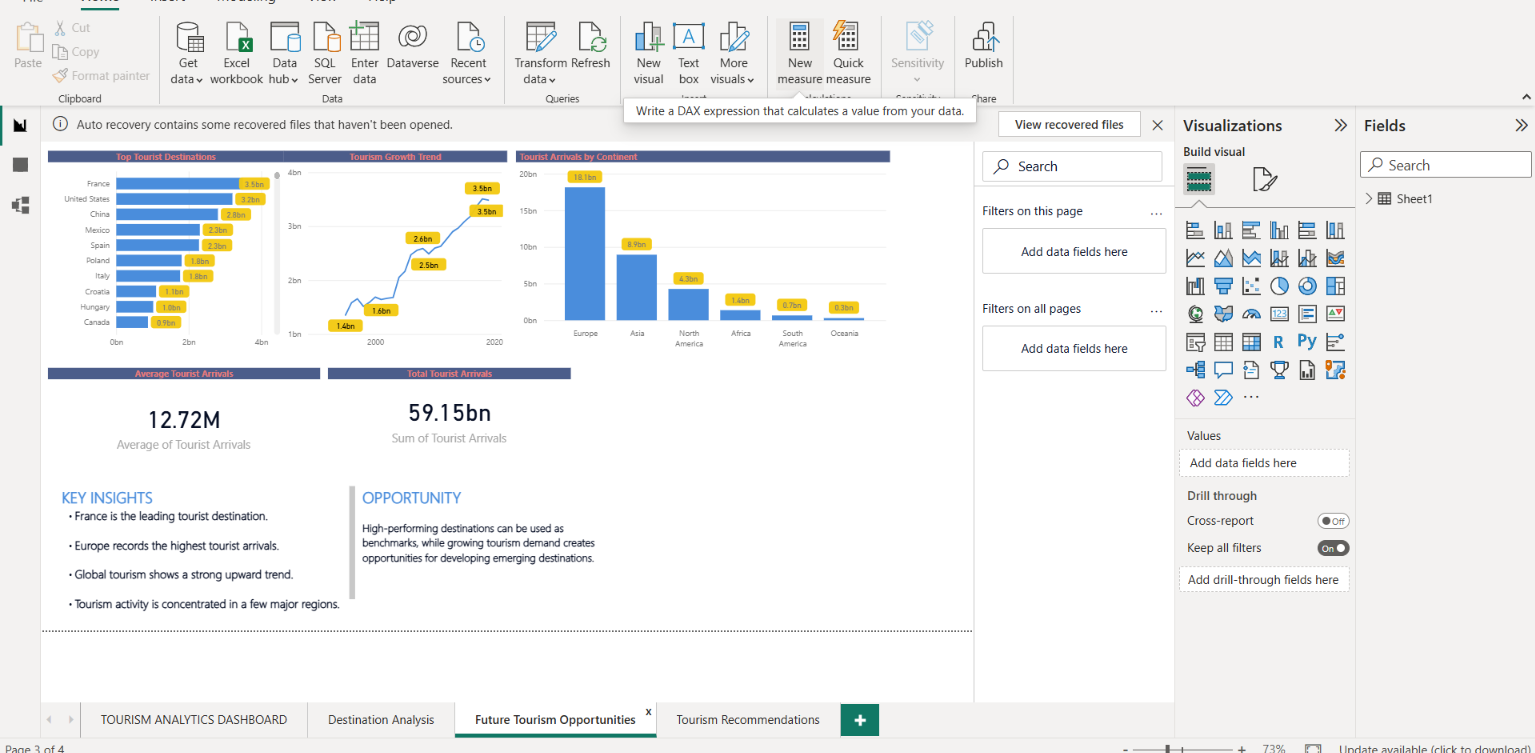

The dashboard page shown, as its layout file describes it:
{"tool":"powerbi","page":{"name":"Future Tourism Opportunities","canvas":[1280,720],"ordinal":2},"visuals":[{"type":"textbox","box":[10,0,280,280],"z":0},{"type":"textbox","box":[149.6,0,913.9,123.5],"z":1000},{"type":"clusteredBarChart","title":"Top Tourist Destinations","fields":{"Category":["Sheet1.Country Name"],"Y":["Sum(Sheet1.Tourist Arrivals)"]},"box":[9.6,61.7,323.8,279.9],"z":2000},{"type":"lineChart","title":"Tourism Growth Trend","fields":{"Category":["Sheet1.Year"],"Y":["Sum(Sheet1.Tourist Arrivals)"]},"box":[333.4,61.7,306,279.9],"z":3000},{"type":"card","title":"Average Tourist Arrivals","fields":{"Values":["Avg(Sheet1.Tourist Arrivals)"]},"box":[9.6,359.5,373.2,142.7],"z":4000},{"type":"card","title":"Total Tourist Arrivals","fields":{"Values":["Sum(Sheet1.Tourist Arrivals)"]},"box":[393.8,359.5,333.4,124.9],"z":5000},{"type":"clusteredColumnChart","title":"Tourist Arrivals by Continent","fields":{"Category":["Sheet1.Continent"],"Y":["Sum(Sheet1.Tourist Arrivals)"]},"box":[651.8,61.7,513.2,279.9],"z":6000},{"type":"textbox","box":[23.3,517.3,413,189.4],"z":7000},{"type":"textbox","box":[436.4,517.3,352.7,188],"z":8000}]}

Visuals, with their boxes on the page's 1280x720 design canvas (x1, y1, x2, y2). These are canvas units, not pixel positions in the 1535x753 screenshot, which may show the page scaled, cropped or inside an application window:
textbox: box=[10, 0, 290, 280]
textbox: box=[150, 0, 1064, 124]
"Top Tourist Destinations" clusteredBarChart: box=[10, 62, 333, 342]
"Tourism Growth Trend" lineChart: box=[333, 62, 639, 342]
"Average Tourist Arrivals" card: box=[10, 360, 383, 502]
"Total Tourist Arrivals" card: box=[394, 360, 727, 484]
"Tourist Arrivals by Continent" clusteredColumnChart: box=[652, 62, 1165, 342]
textbox: box=[23, 517, 436, 707]
textbox: box=[436, 517, 789, 705]
